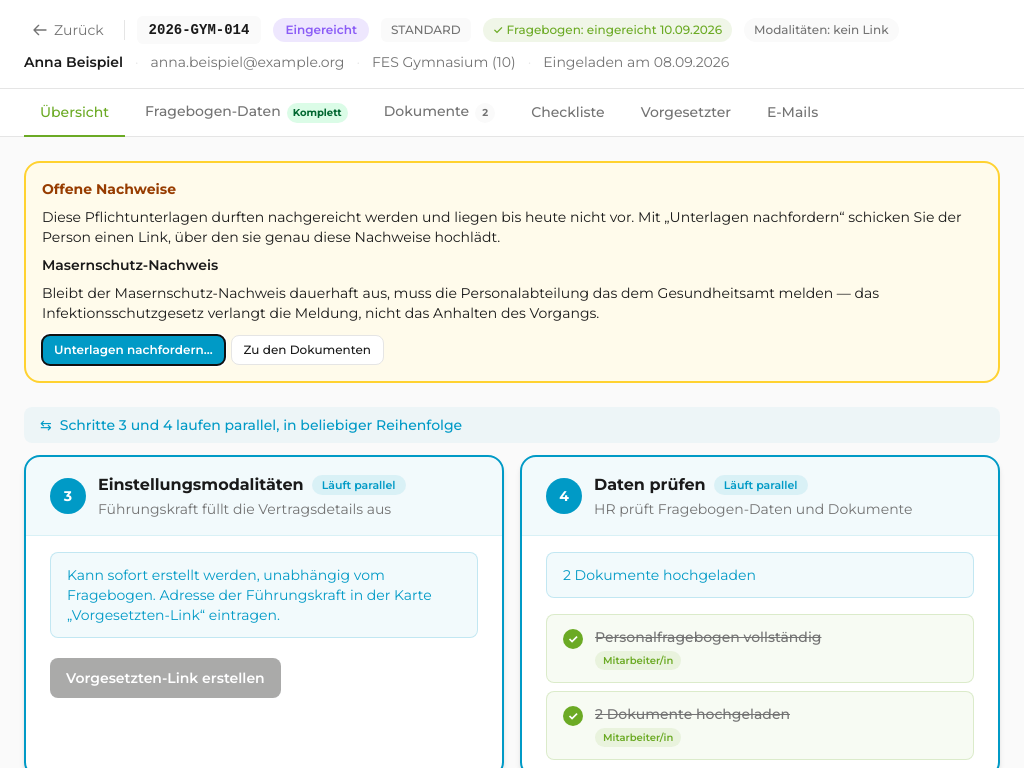
it: Ablauf in der Seite: Kasten → Dialog → Meldung › echter Dialog: Nach „Anfordern und E-Mail senden“ liegt der Fokus auf dem Block der Karte, nicht auf body
Expected: the text "2026-GYM-014" is shown, [137, 16, 261, 44]
Click the button "Unterlagen nachfordern…".
click(133, 350)  # box [42, 335, 225, 365]
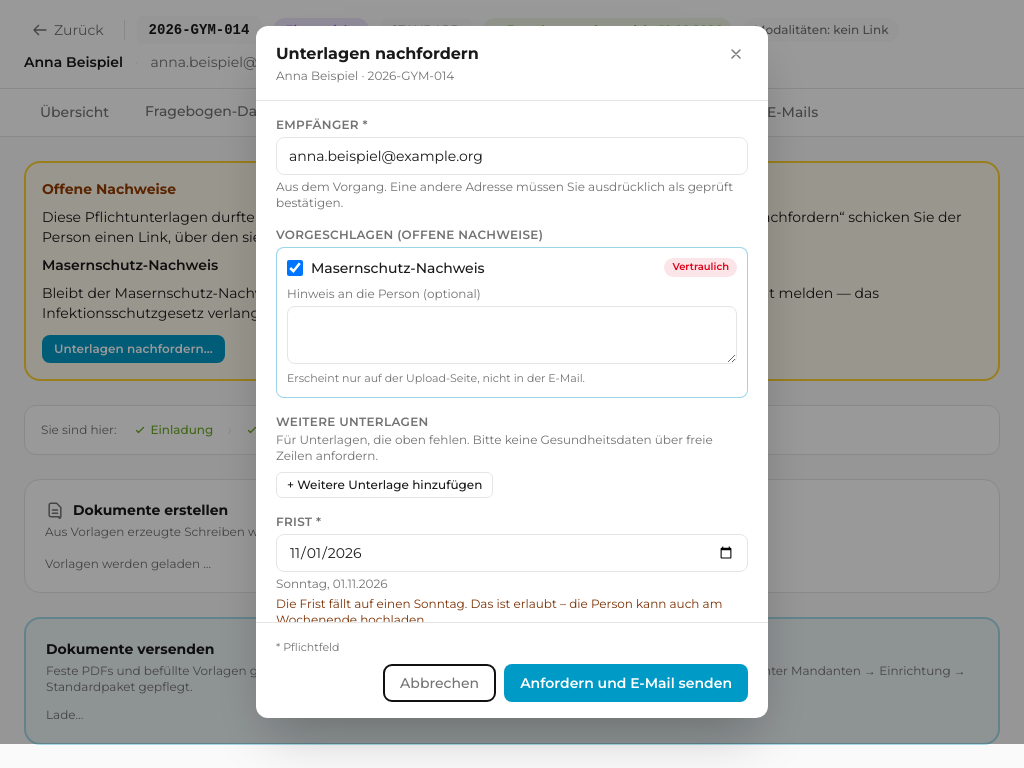
Now the dialog shows "Anna Beispiel · 2026-GYM-014", box [276, 68, 454, 83]
Click the button "Anfordern und E-Mail senden".
click(626, 683)  # box [504, 664, 748, 702]
(page scrolled)
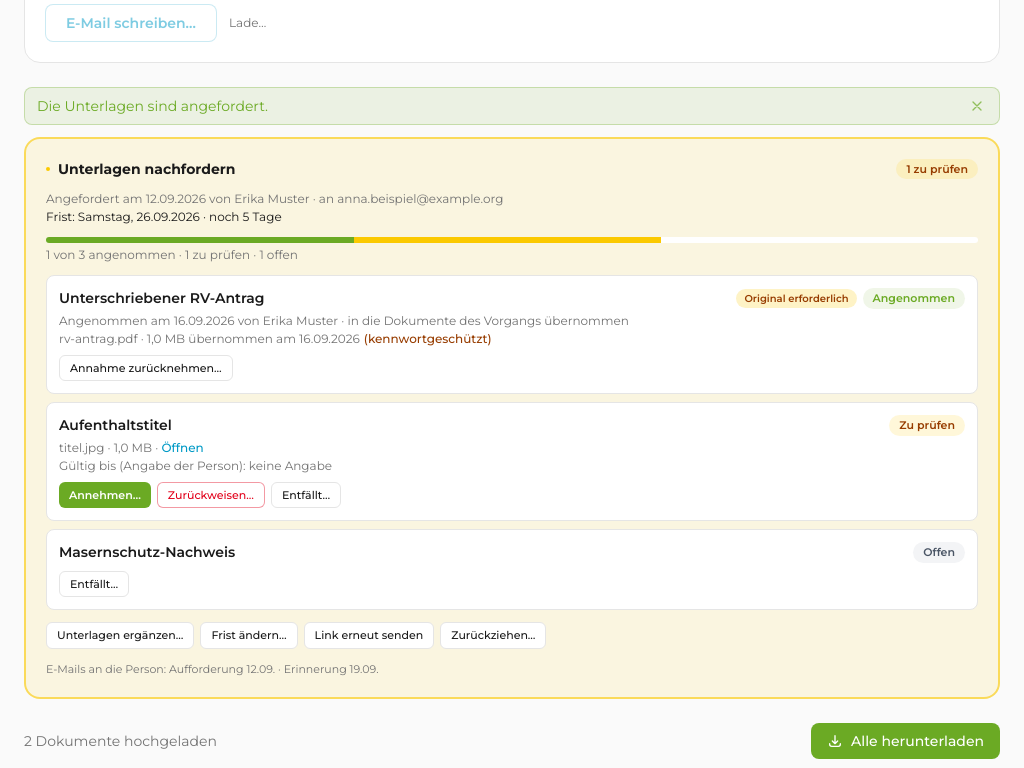
Now the button is gone
Now the button "Unterlagen nachfordern…" is gone
Now the message "Die Unterlagen sind angefordert." is shown, box [24, 87, 1000, 125]
